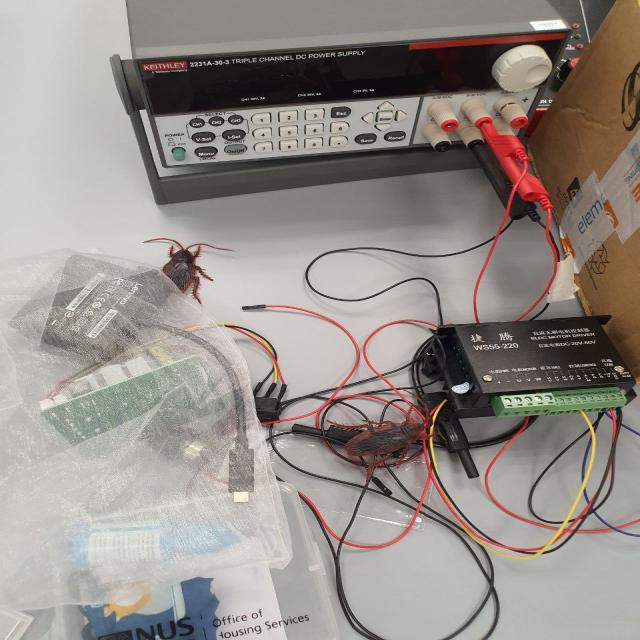Cockroach: (141, 230, 242, 318), (344, 406, 431, 474)
